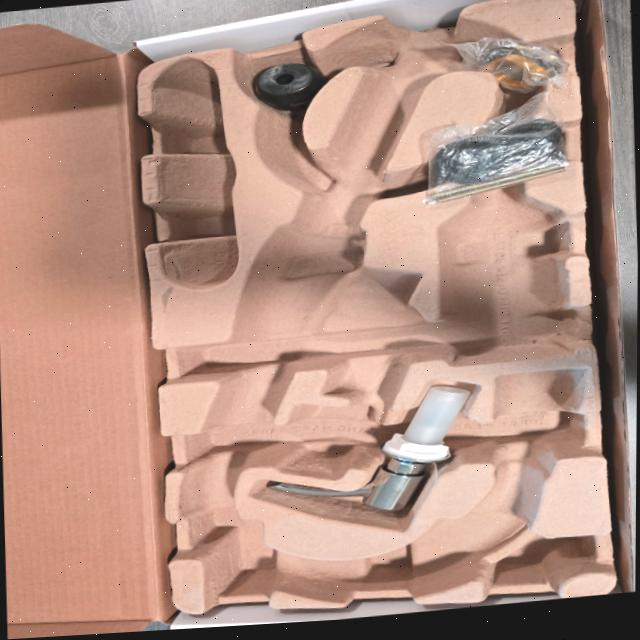1m: (182, 4, 583, 599)
2: (266, 383, 471, 511)
3m: (439, 168, 569, 364)
4m: (153, 54, 239, 289)
5: (250, 62, 320, 111)
6: (447, 34, 571, 90)
7: (421, 86, 571, 205)
